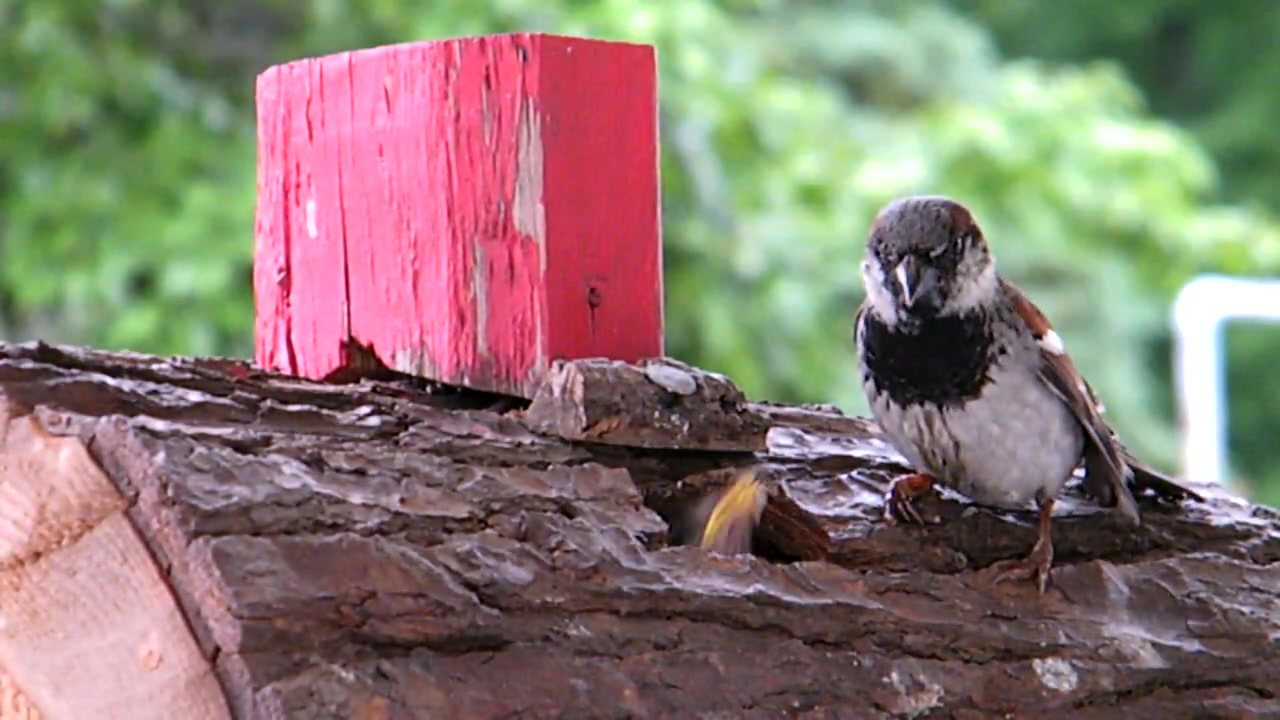bird: (853, 194, 1198, 586)
